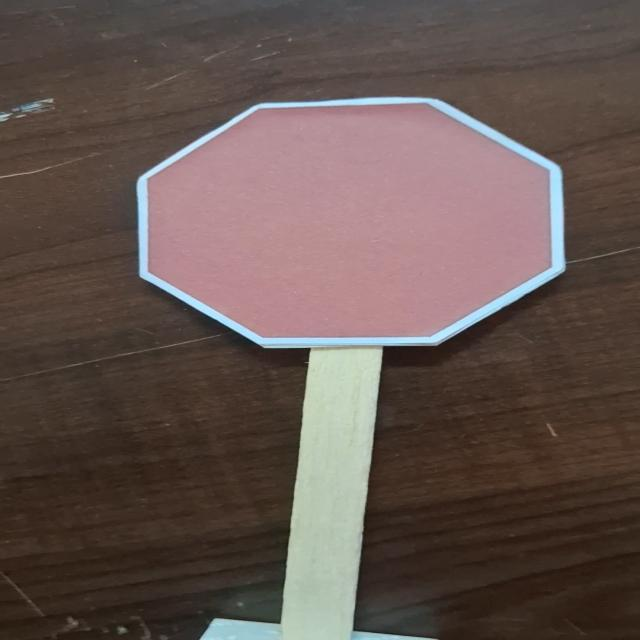Stop: (125, 86, 580, 354)
